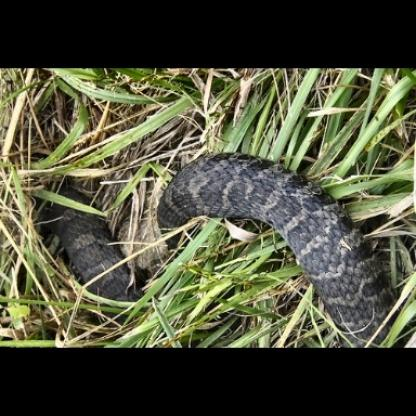Snake: (7, 140, 394, 337)
